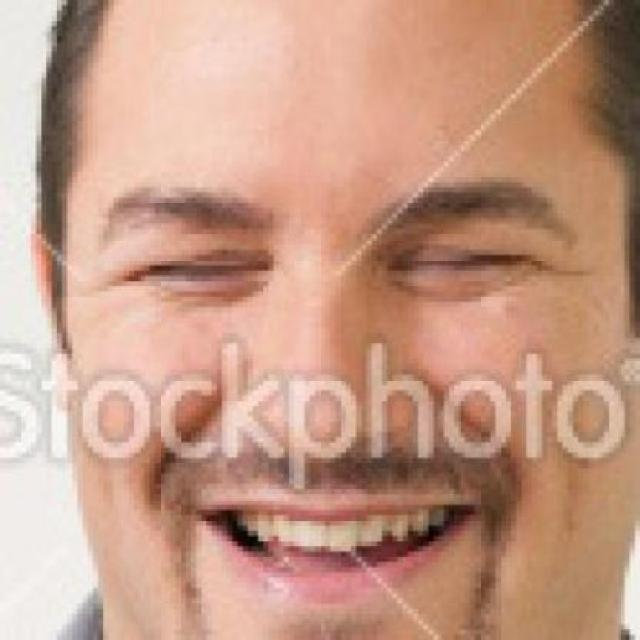drowsy: (121, 247, 268, 301), (386, 238, 526, 294)
